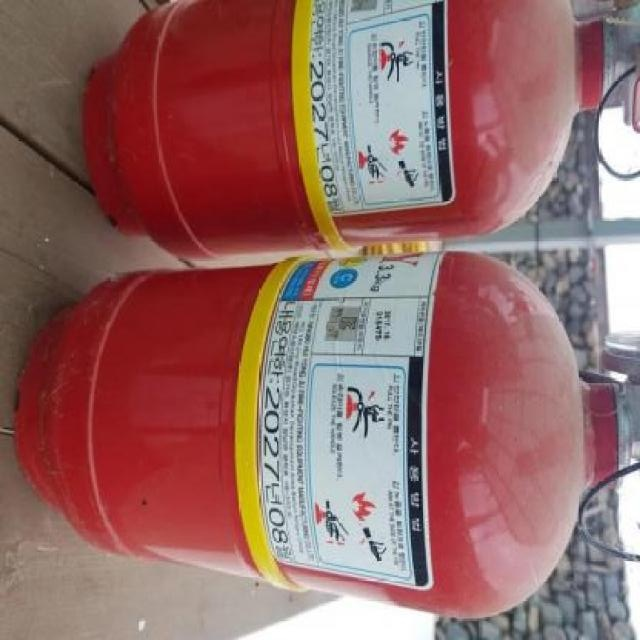fire extinguisher: (14, 250, 640, 618), (82, 0, 640, 261)
